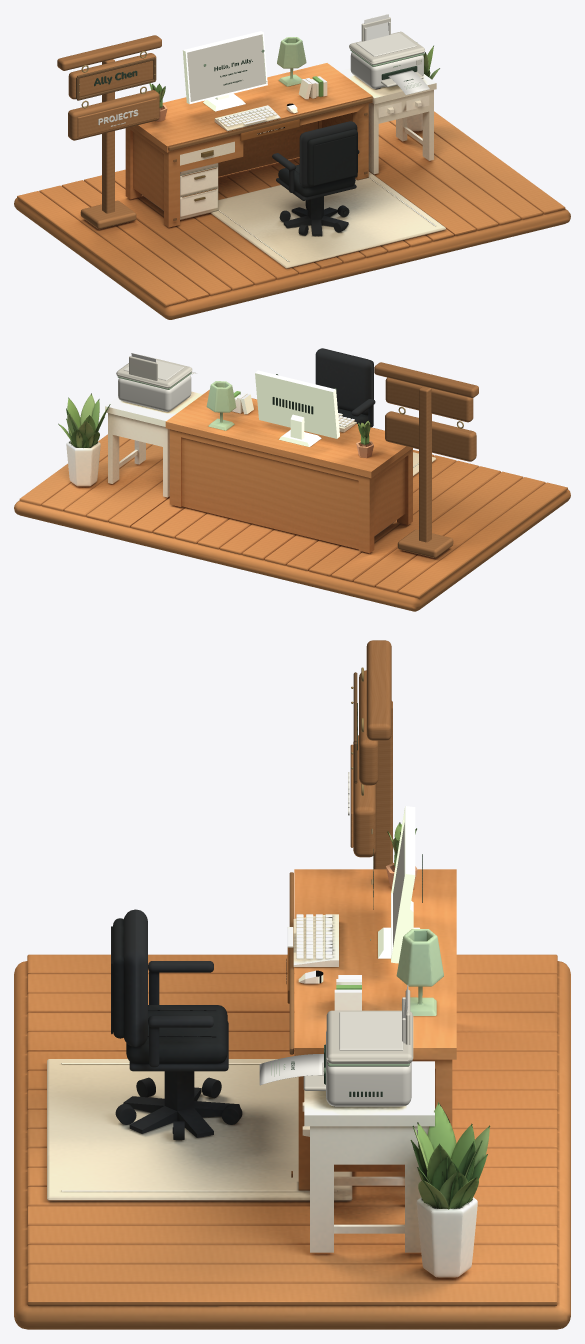
File: desk-studio.glb
3 views of the same model, one above another, from view 1: azimuth 30°, elevation 25°; view 2: azimuth 150°, elevation 25°; view 3: azimuth 270°, elevation 25° (orthographic). The views are drawn at different scales.
Parts seen in each view (by area): view 1: StudioStatic, ProjectsSign, ProjectsMonitor, PrinterBody, ResumePaper; view 2: StudioStatic, ProjectsSign, ProjectsMonitor, PrinterBody; view 3: StudioStatic, PrinterBody, ProjectsSign, ProjectsMonitor, ResumePaper.
Boxes of the visible parts, <box> form: StudioStatic: <box>14,37,570,319</box>; ProjectsSign: <box>57,35,161,229</box>; ProjectsMonitor: <box>182,31,267,111</box>; PrinterBody: <box>349,14,424,89</box>; ResumePaper: <box>388,70,429,94</box>; StudioStatic: <box>14,348,570,611</box>; ProjectsSign: <box>374,362,478,557</box>; ProjectsMonitor: <box>255,370,339,446</box>; PrinterBody: <box>116,353,192,411</box>; StudioStatic: <box>14,822,570,1329</box>; PrinterBody: <box>303,984,413,1106</box>; ProjectsSign: <box>348,640,392,869</box>; ProjectsMonitor: <box>370,806,422,963</box>; ResumePaper: <box>259,1054,323,1085</box>.
Bounding box in the file's own units: 4.11 × 1.8 × 2.7.
12 materials, 3 textured.
